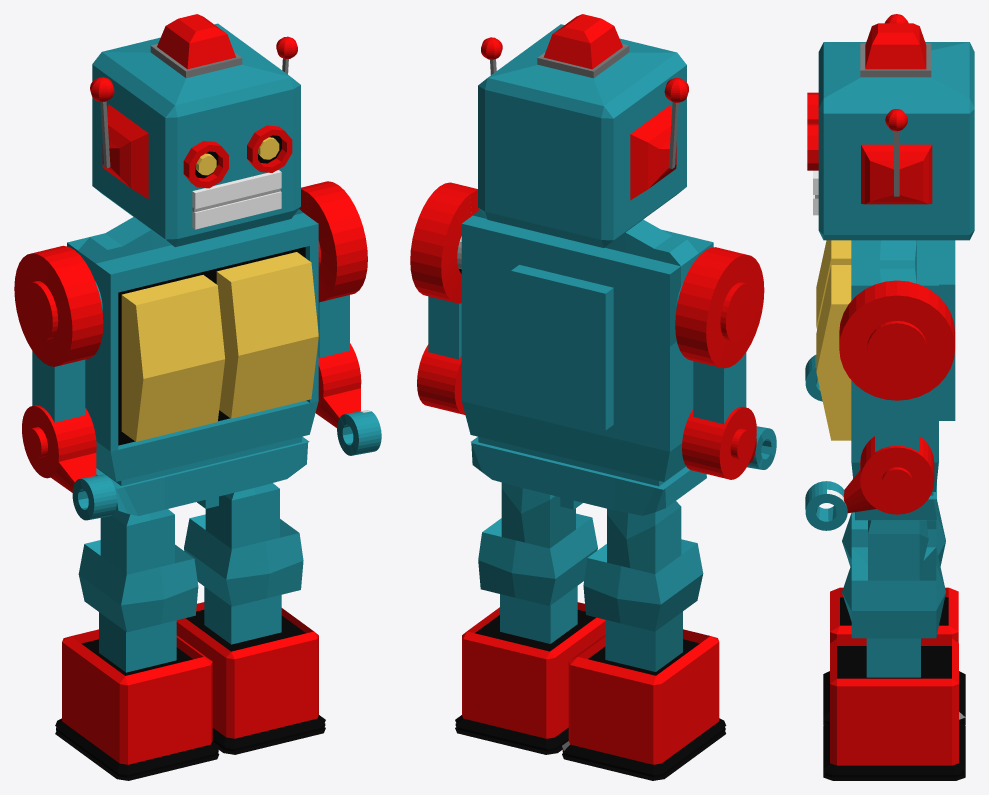
File: RobotToy.fbx
3 views of the same model, side by side, from view 1: azimuth 30°, elevation 25°; view 2: azimuth 150°, elevation 25°; view 3: azimuth 270°, elevation 25° (orthographic).
Visible parts, largest first — view 1: Cube; view 2: Cube; view 3: Cube.
Part boxes in pixels (box(x1,y1,x2,y2)): Cube: box(14, 14, 381, 780); Cube: box(410, 14, 776, 780); Cube: box(805, 14, 974, 780).
Size of the model in its own units: 181 by 389 by 84.8.
Materials: 1 (1 with a texture image).
